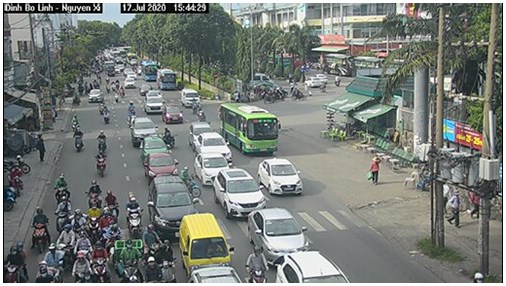di_bo: (368, 156, 382, 185), (36, 134, 47, 163)
xe_buyt: (218, 100, 280, 156)
xe_hoi: (246, 209, 312, 266), (148, 177, 203, 238), (178, 213, 234, 269), (212, 168, 266, 218), (275, 253, 352, 283), (258, 157, 304, 197), (193, 151, 233, 186), (192, 132, 235, 162), (141, 152, 178, 178), (130, 115, 157, 144), (139, 136, 167, 161), (160, 104, 183, 125)
xe_may: (113, 238, 144, 283), (4, 243, 28, 283), (243, 247, 269, 283), (31, 206, 50, 253), (92, 239, 112, 283), (124, 190, 143, 234), (72, 248, 90, 283), (55, 196, 71, 230), (86, 177, 103, 208), (54, 172, 70, 203), (93, 150, 111, 176), (72, 126, 86, 154), (96, 127, 109, 153)
